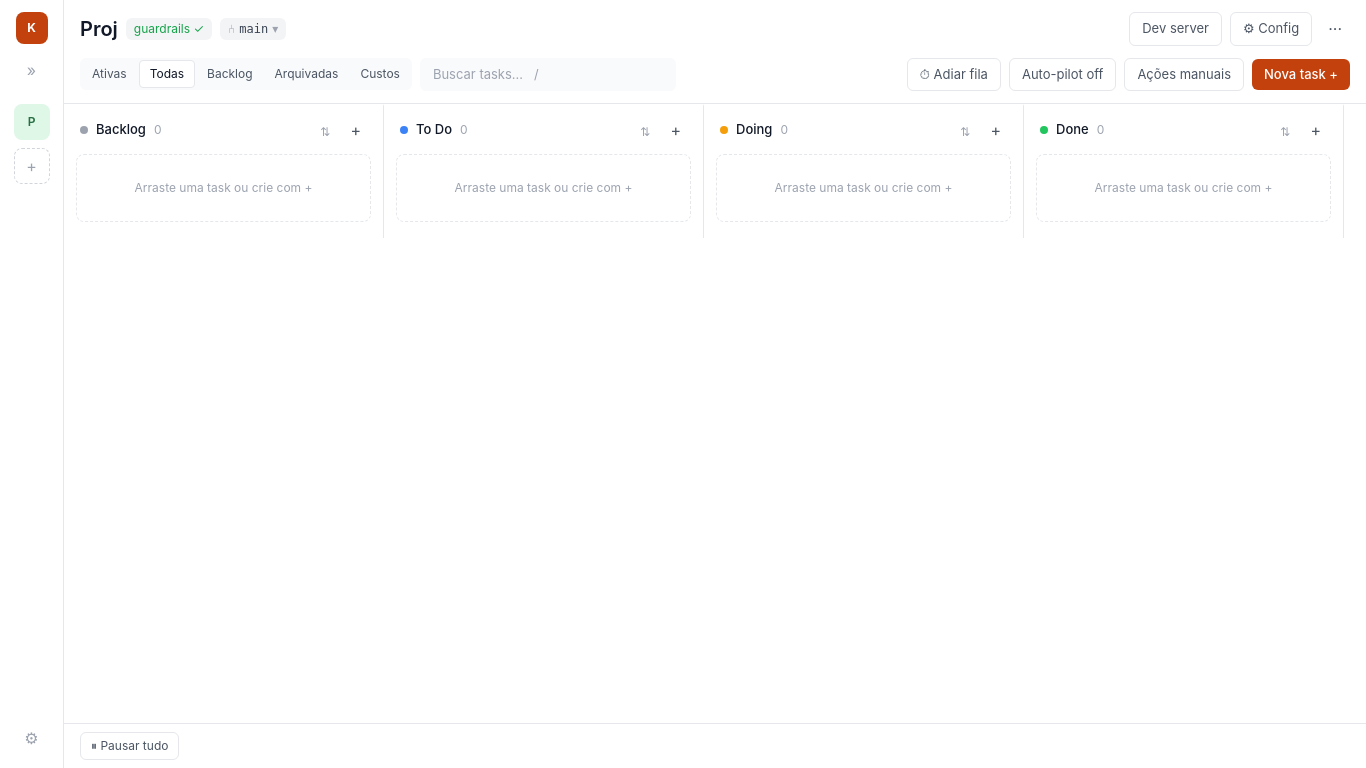
Test: catálogo de modelos › o botão atualizar busca na Anthropic e aplica o catálogo novo
Click the button titled "Configurações globais (valem para todos os projetos)" at (31, 738), box [18,720,45,756]
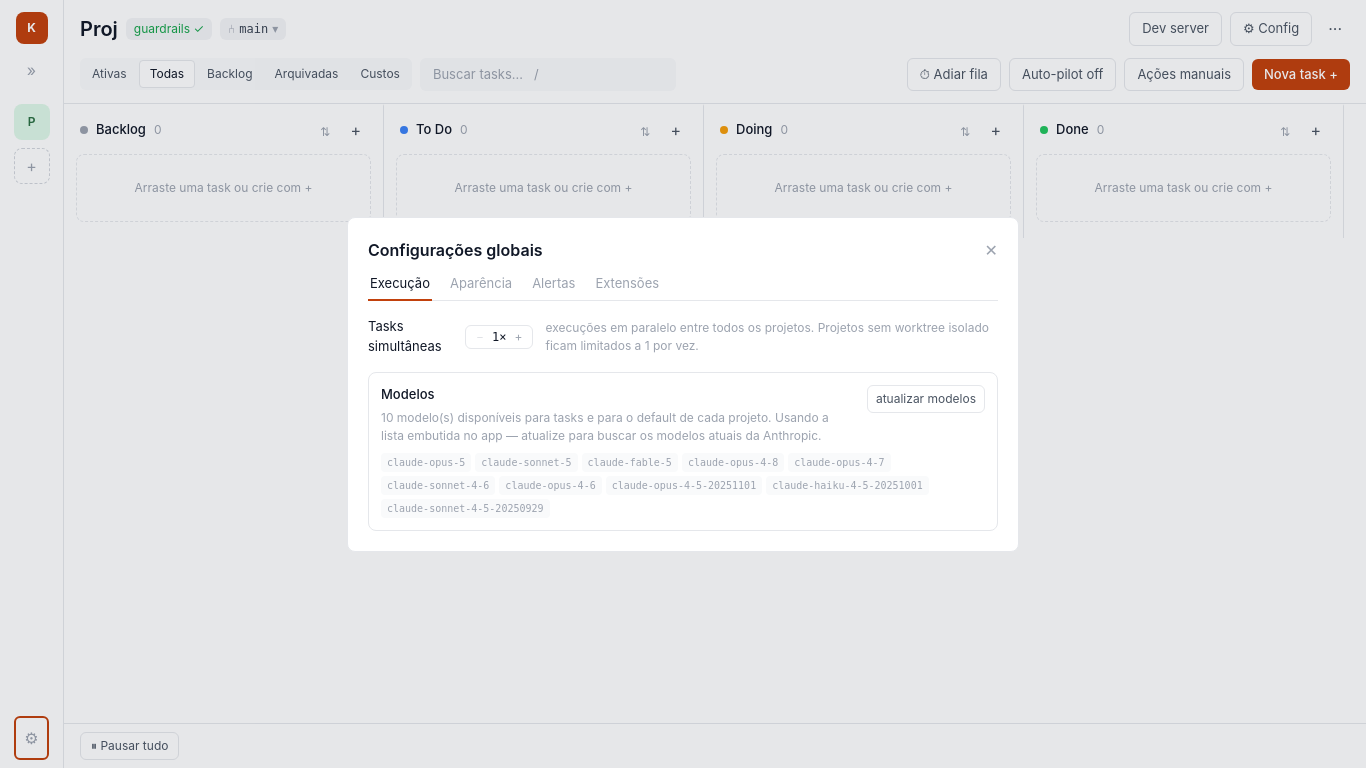
Expected: the text "Modelos" is shown, [381,386,434,402]
Expected: the text "claude-opus-5" is shown, [381,452,471,472]
Click the button "atualizar modelos" at (926, 399), box [867,385,985,413]
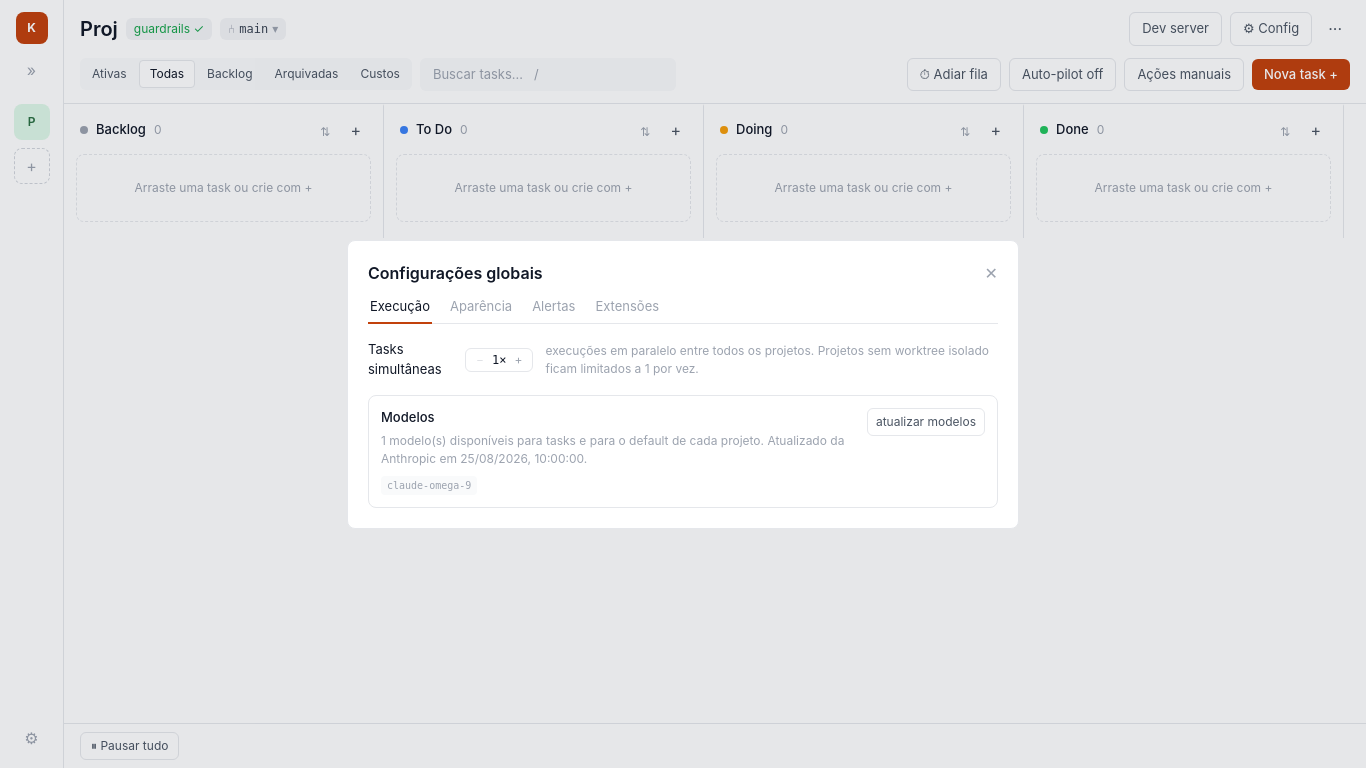
Expected: the text "claude-omega-9" is shown, [381,476,477,494]
Expected: the text "claude-opus-5" is gone
